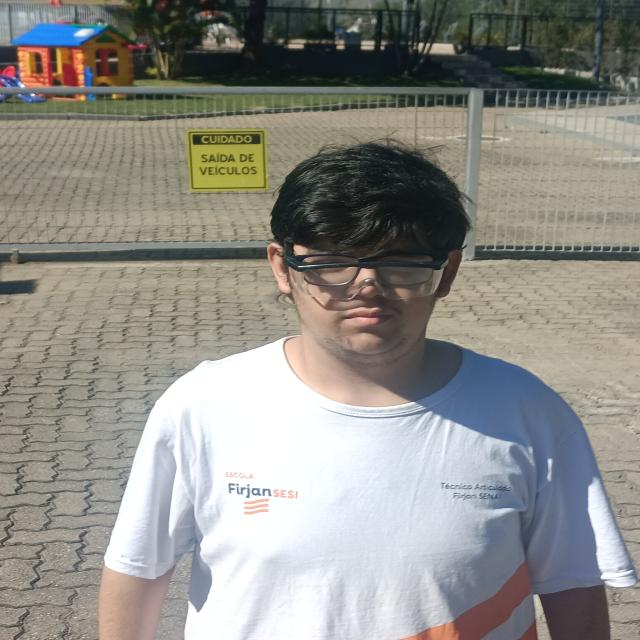oculos-epi: (285, 244, 448, 299)
